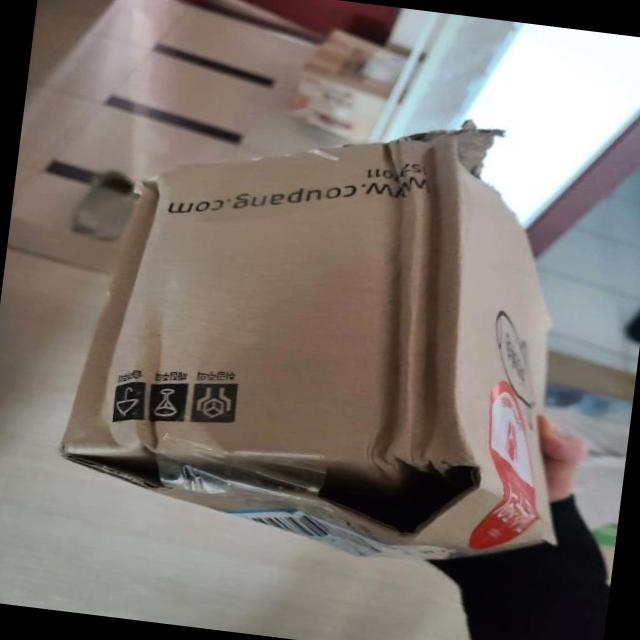crushed: (366, 132, 460, 462), (72, 176, 172, 446)
tear: (52, 463, 483, 535)
